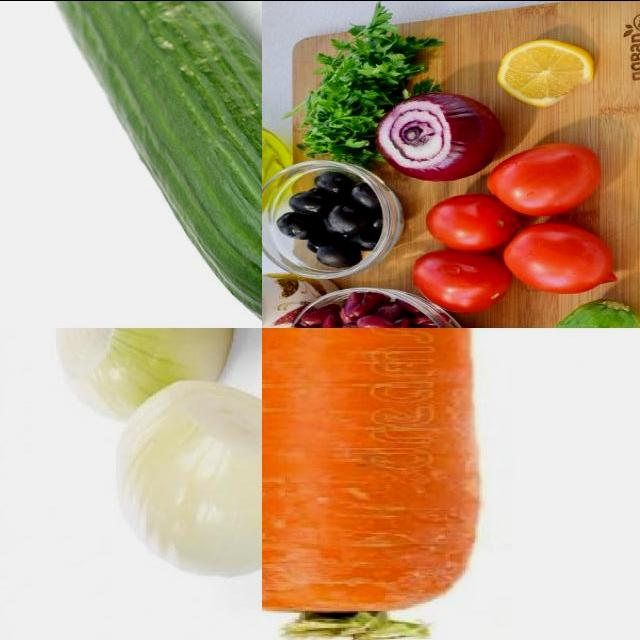carrot: (263, 328, 522, 639)
cucumber: (1, 1, 263, 328)
onion: (109, 379, 263, 577), (54, 328, 237, 421), (384, 92, 490, 178)
tomato: (495, 143, 599, 217), (512, 227, 612, 292), (414, 255, 502, 311), (417, 198, 511, 249)
